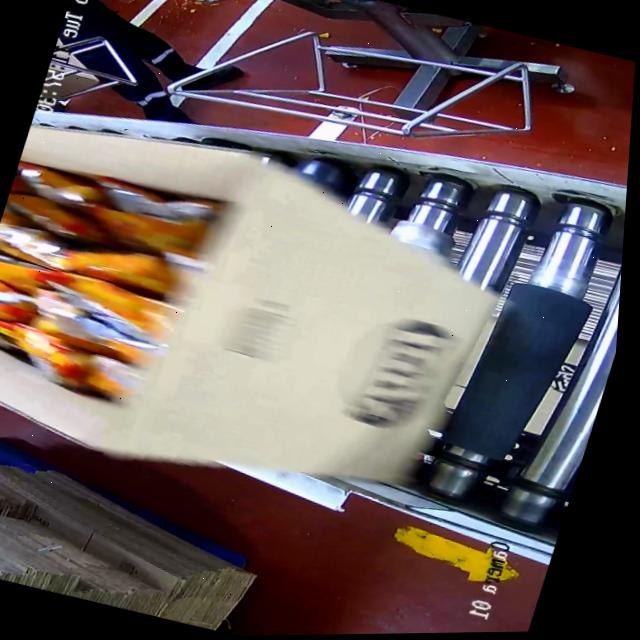FRENCH_CHEESE: (0, 151, 200, 432)
